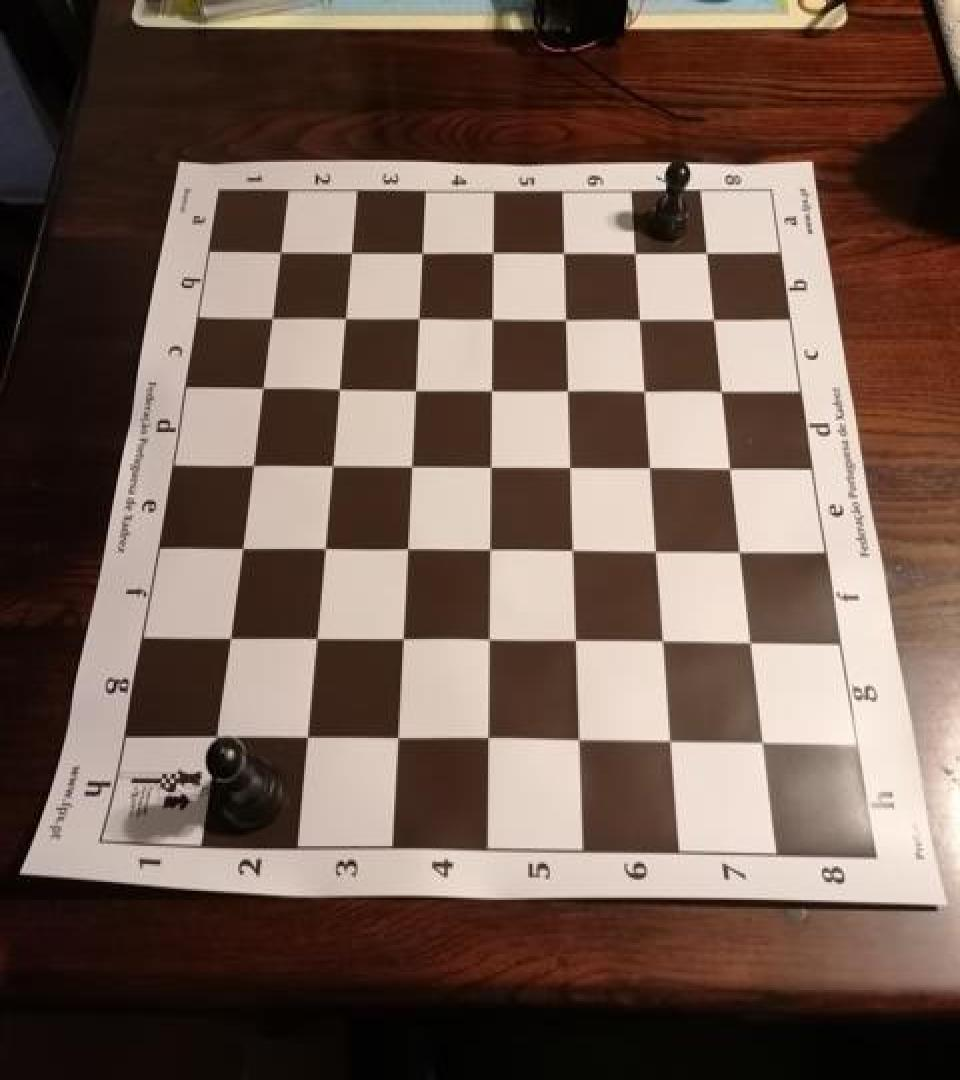xcorner: (380, 617, 412, 654), (293, 616, 325, 653), (206, 615, 238, 652), (689, 233, 721, 269), (617, 233, 649, 269), (545, 233, 577, 269), (473, 232, 505, 268), (402, 232, 434, 268), (331, 232, 363, 268), (260, 232, 292, 268), (697, 298, 729, 334), (622, 298, 654, 334), (547, 298, 579, 334), (472, 298, 504, 334), (398, 297, 430, 333), (324, 297, 356, 333), (251, 297, 283, 333), (705, 370, 737, 406), (627, 369, 659, 405), (549, 369, 581, 405), (471, 368, 503, 404), (394, 368, 426, 404), (317, 367, 349, 403), (241, 367, 273, 403), (714, 446, 746, 482), (632, 446, 664, 482), (470, 444, 502, 480), (390, 444, 422, 480), (310, 443, 342, 479), (230, 442, 262, 478), (724, 531, 756, 567), (638, 530, 670, 566), (553, 529, 585, 565), (469, 529, 501, 565), (385, 528, 417, 564), (301, 526, 333, 562), (219, 526, 251, 562), (734, 623, 766, 659), (645, 622, 677, 658), (556, 621, 588, 657), (468, 619, 500, 655), (746, 724, 778, 760), (652, 722, 684, 758), (559, 721, 591, 757), (466, 719, 498, 755), (374, 718, 406, 754), (283, 716, 315, 752), (192, 714, 224, 750), (551, 446, 583, 481)
